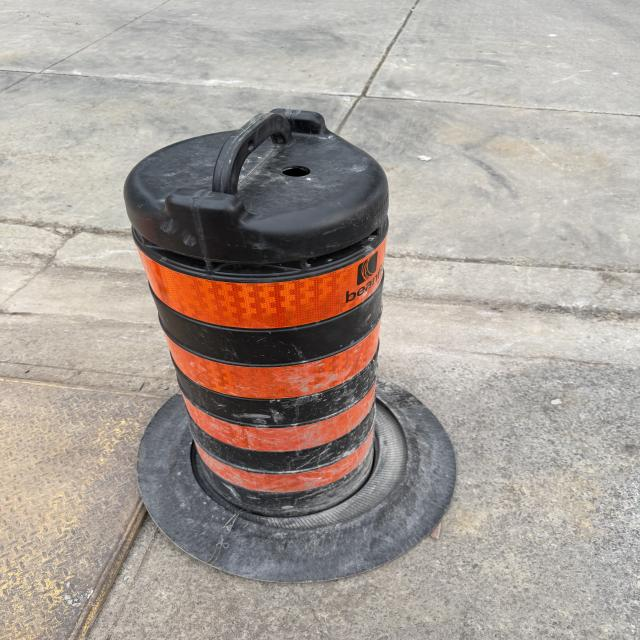Teraffic Barrel: (125, 110, 453, 580)
